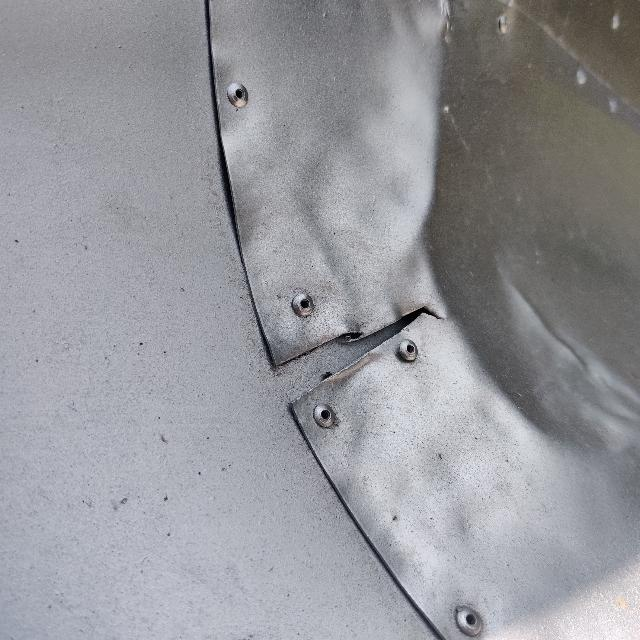dent: (390, 0, 640, 476)
